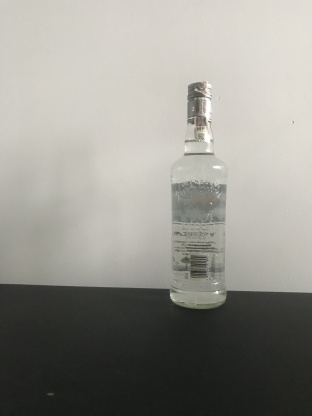nakretka: (185, 79, 213, 125)
